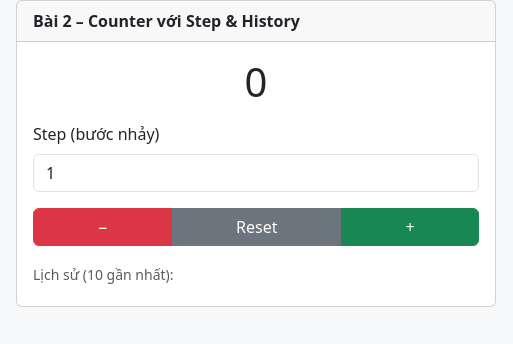
Test: Bài 2 – Counter với Step & History › ✅ Task 2+5 – SET_STEP › thay đổi step rồi increment nhảy đúng bước
Replace the text in the number field with test id "step-input" with "5": (256, 173) [33, 154, 479, 192]
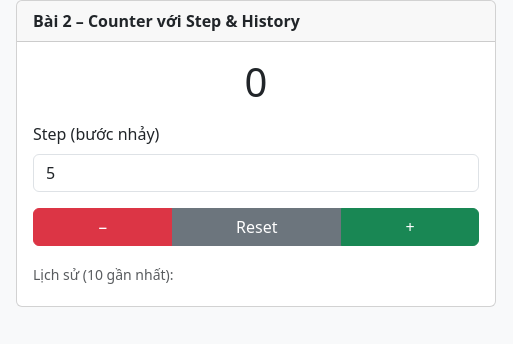
Click the button with test id "btn-increment": (410, 227) [341, 208, 479, 246]
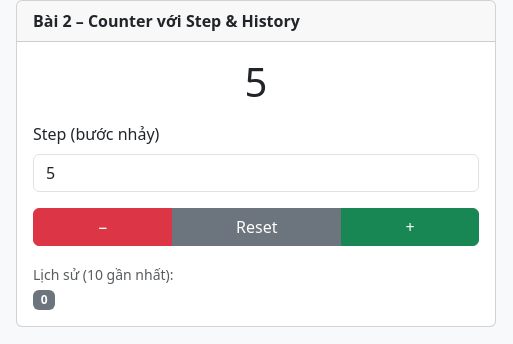
Result: the heading with test id "count-display" reads "5" at [244, 54, 267, 109]
